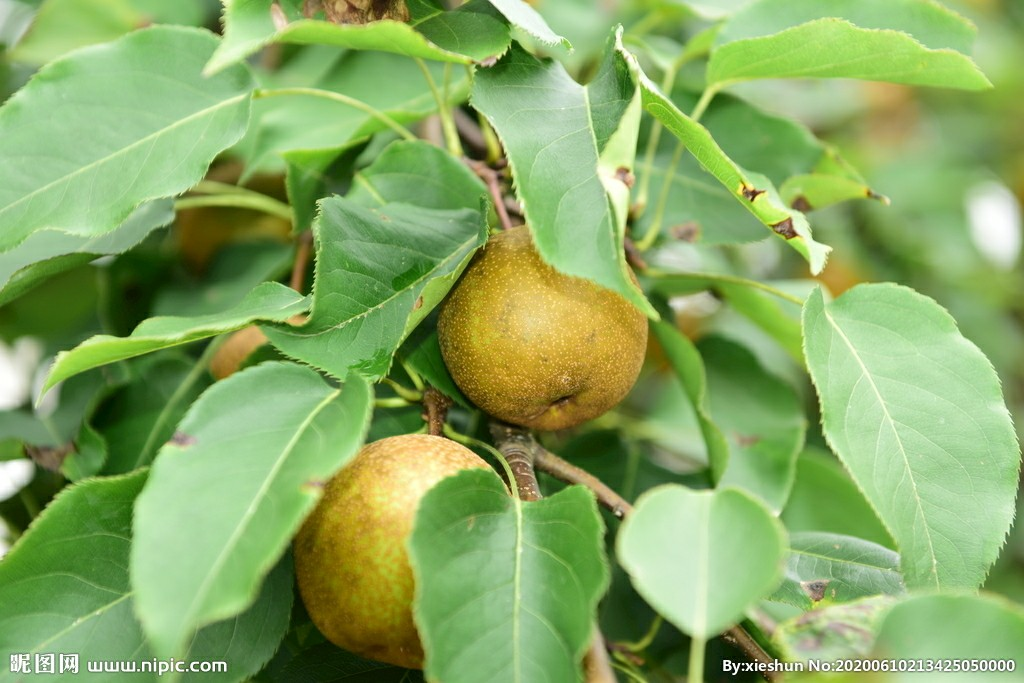pear: (292, 433, 518, 660), (438, 225, 652, 430)
